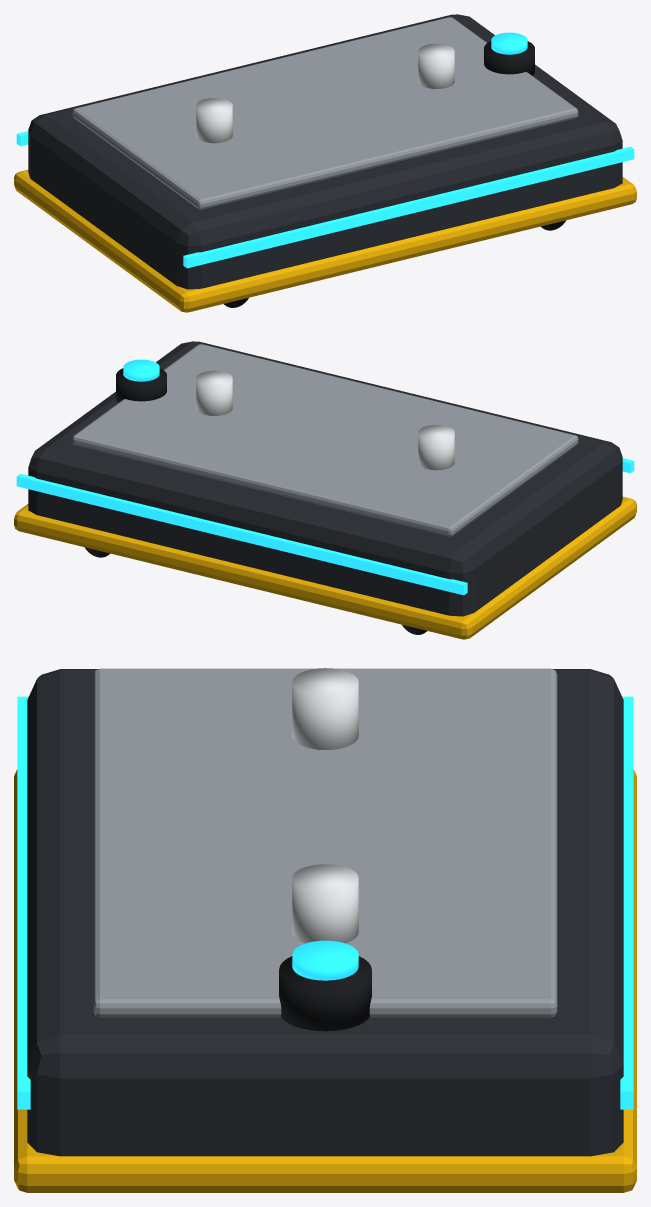
File: agv.glb
3 views of the same model, one above another, from view 1: azimuth 30°, elevation 25°; view 2: azimuth 150°, elevation 25°; view 3: azimuth 270°, elevation 25° (orthographic). The views are drawn at different scales.
Parts seen in each view (by area): view 1: agv; view 2: agv; view 3: agv.
Boxes of the visible parts, x1=… form: agv: x1=14, y1=14, x2=636, y2=312; agv: x1=14, y1=341, x2=636, y2=639; agv: x1=14, y1=668, x2=636, y2=1192.
Size of the model in its own units: 1.44 by 0.42 by 0.94.
